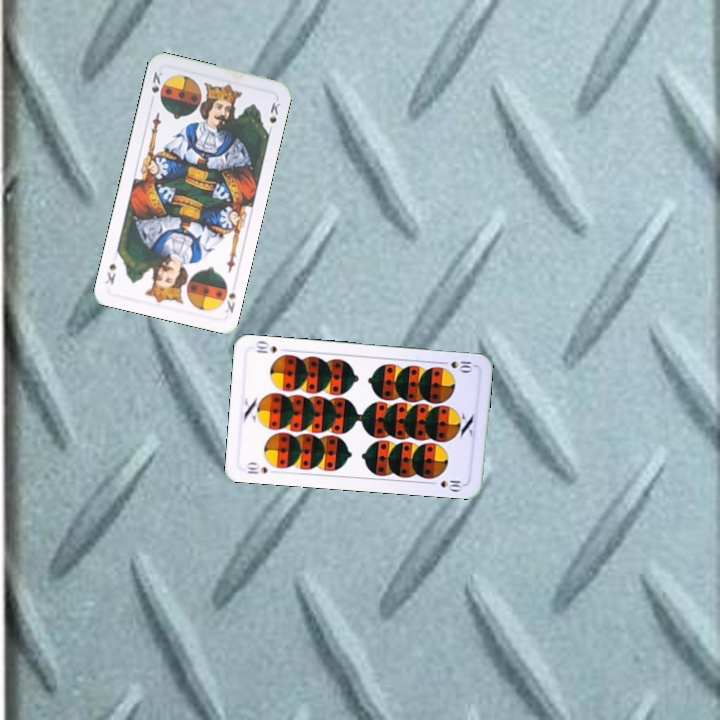S10: (436, 357, 477, 374), (243, 459, 270, 476)
SK: (146, 67, 165, 106), (221, 287, 238, 316)
